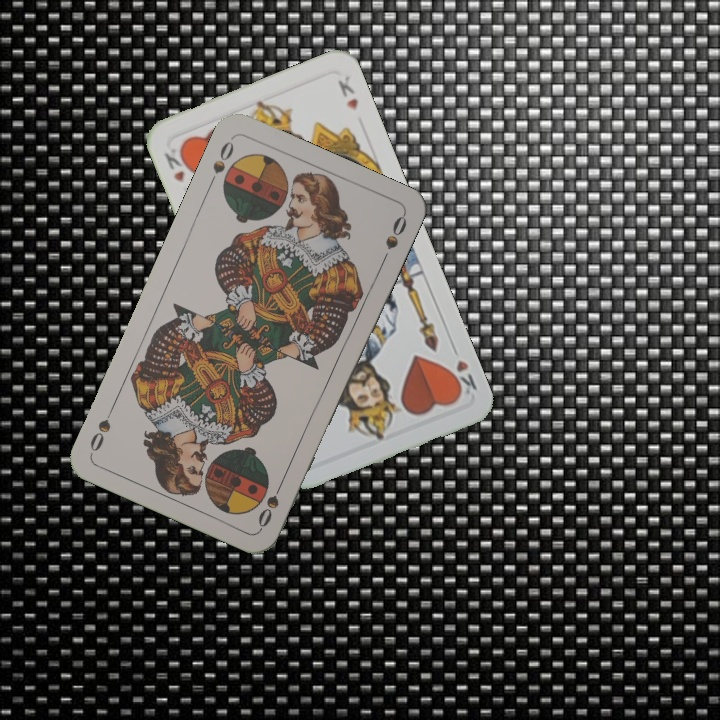HK: (444, 340, 479, 401), (160, 142, 194, 186)
SO: (254, 475, 287, 531), (204, 137, 237, 190)
